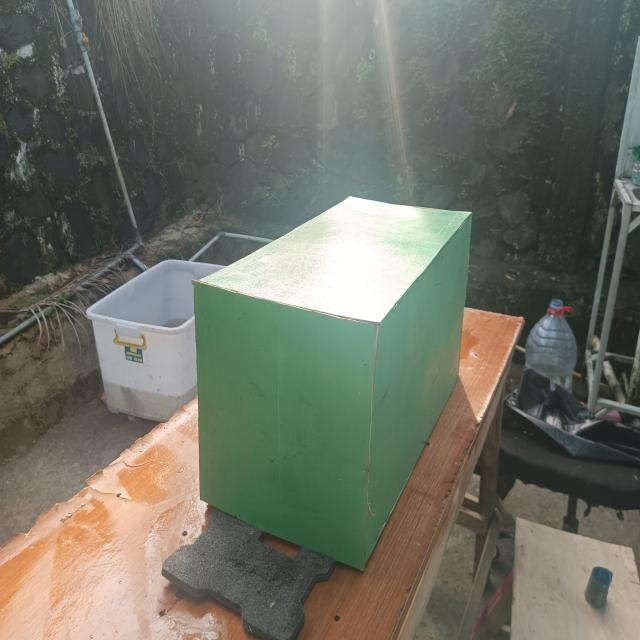green_box: (192, 150, 469, 557)
